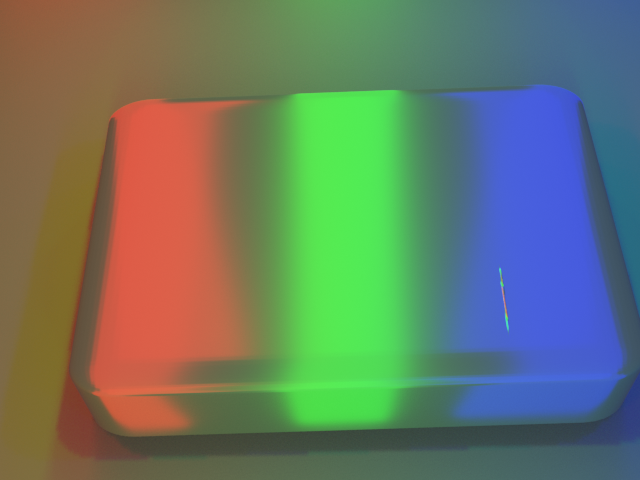scratch: (377, 222, 619, 402)
